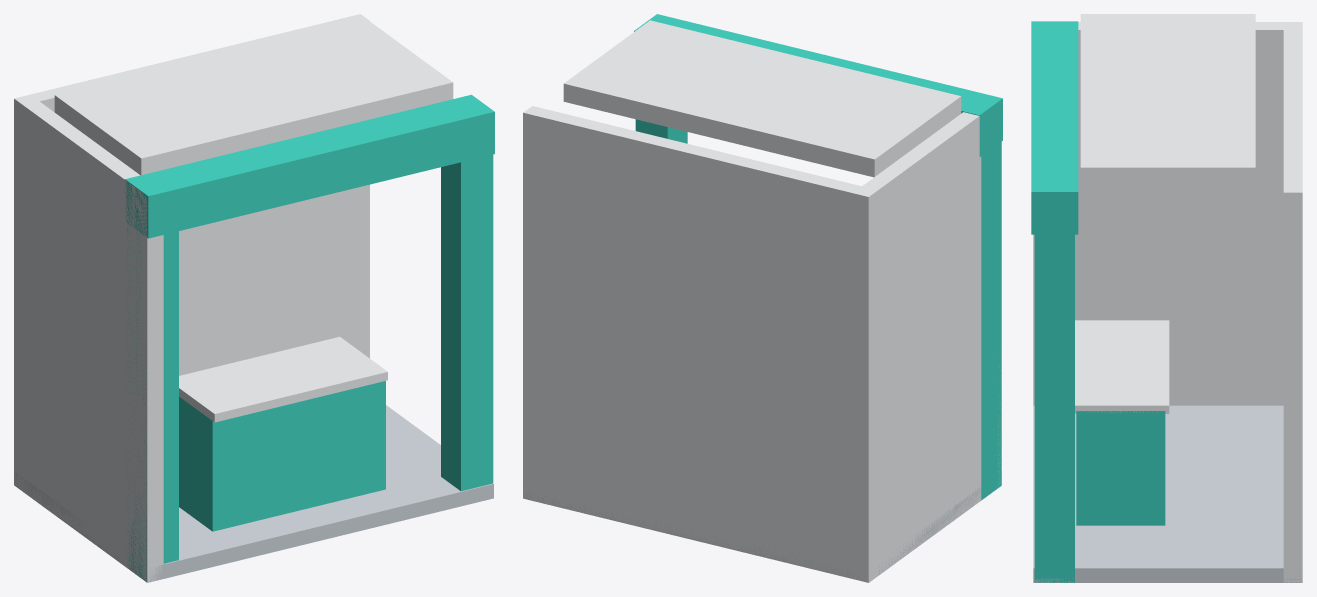
3 renders of one model, left to right at view 1: azimuth 30°, elevation 25°; view 2: azimuth 150°, elevation 25°; view 3: azimuth 270°, elevation 25°, orthographic.
Parts seen in each view (by area): view 1: Exhibition Booth Concept; view 2: Exhibition Booth Concept; view 3: Exhibition Booth Concept.
Part boxes in pixels (x1,y1,x2,y2): Exhibition Booth Concept: [14, 14, 494, 582]; Exhibition Booth Concept: [523, 14, 1002, 582]; Exhibition Booth Concept: [1031, 14, 1302, 582].
Bounding box in the file's own units: 3 × 3.34 × 2.01.
